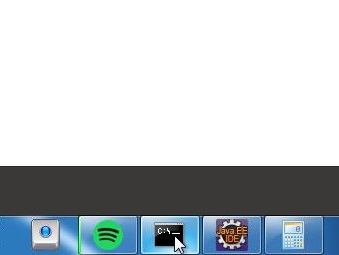cursor: (173, 235, 187, 254)
